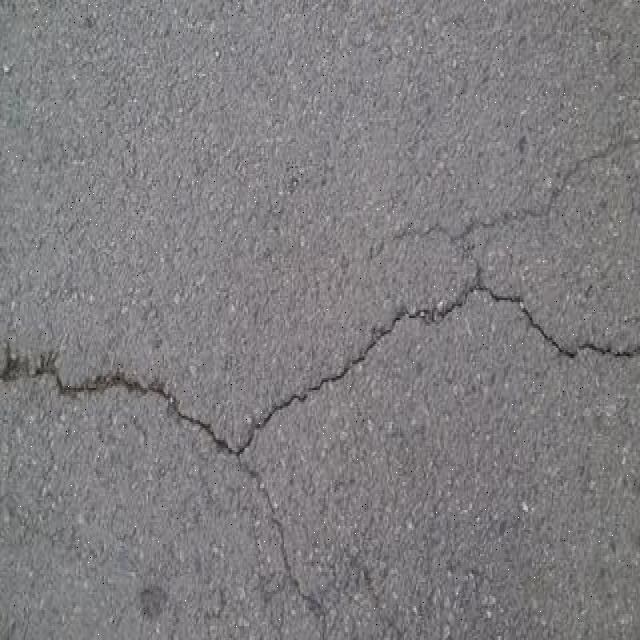crack: (0, 140, 640, 535)
